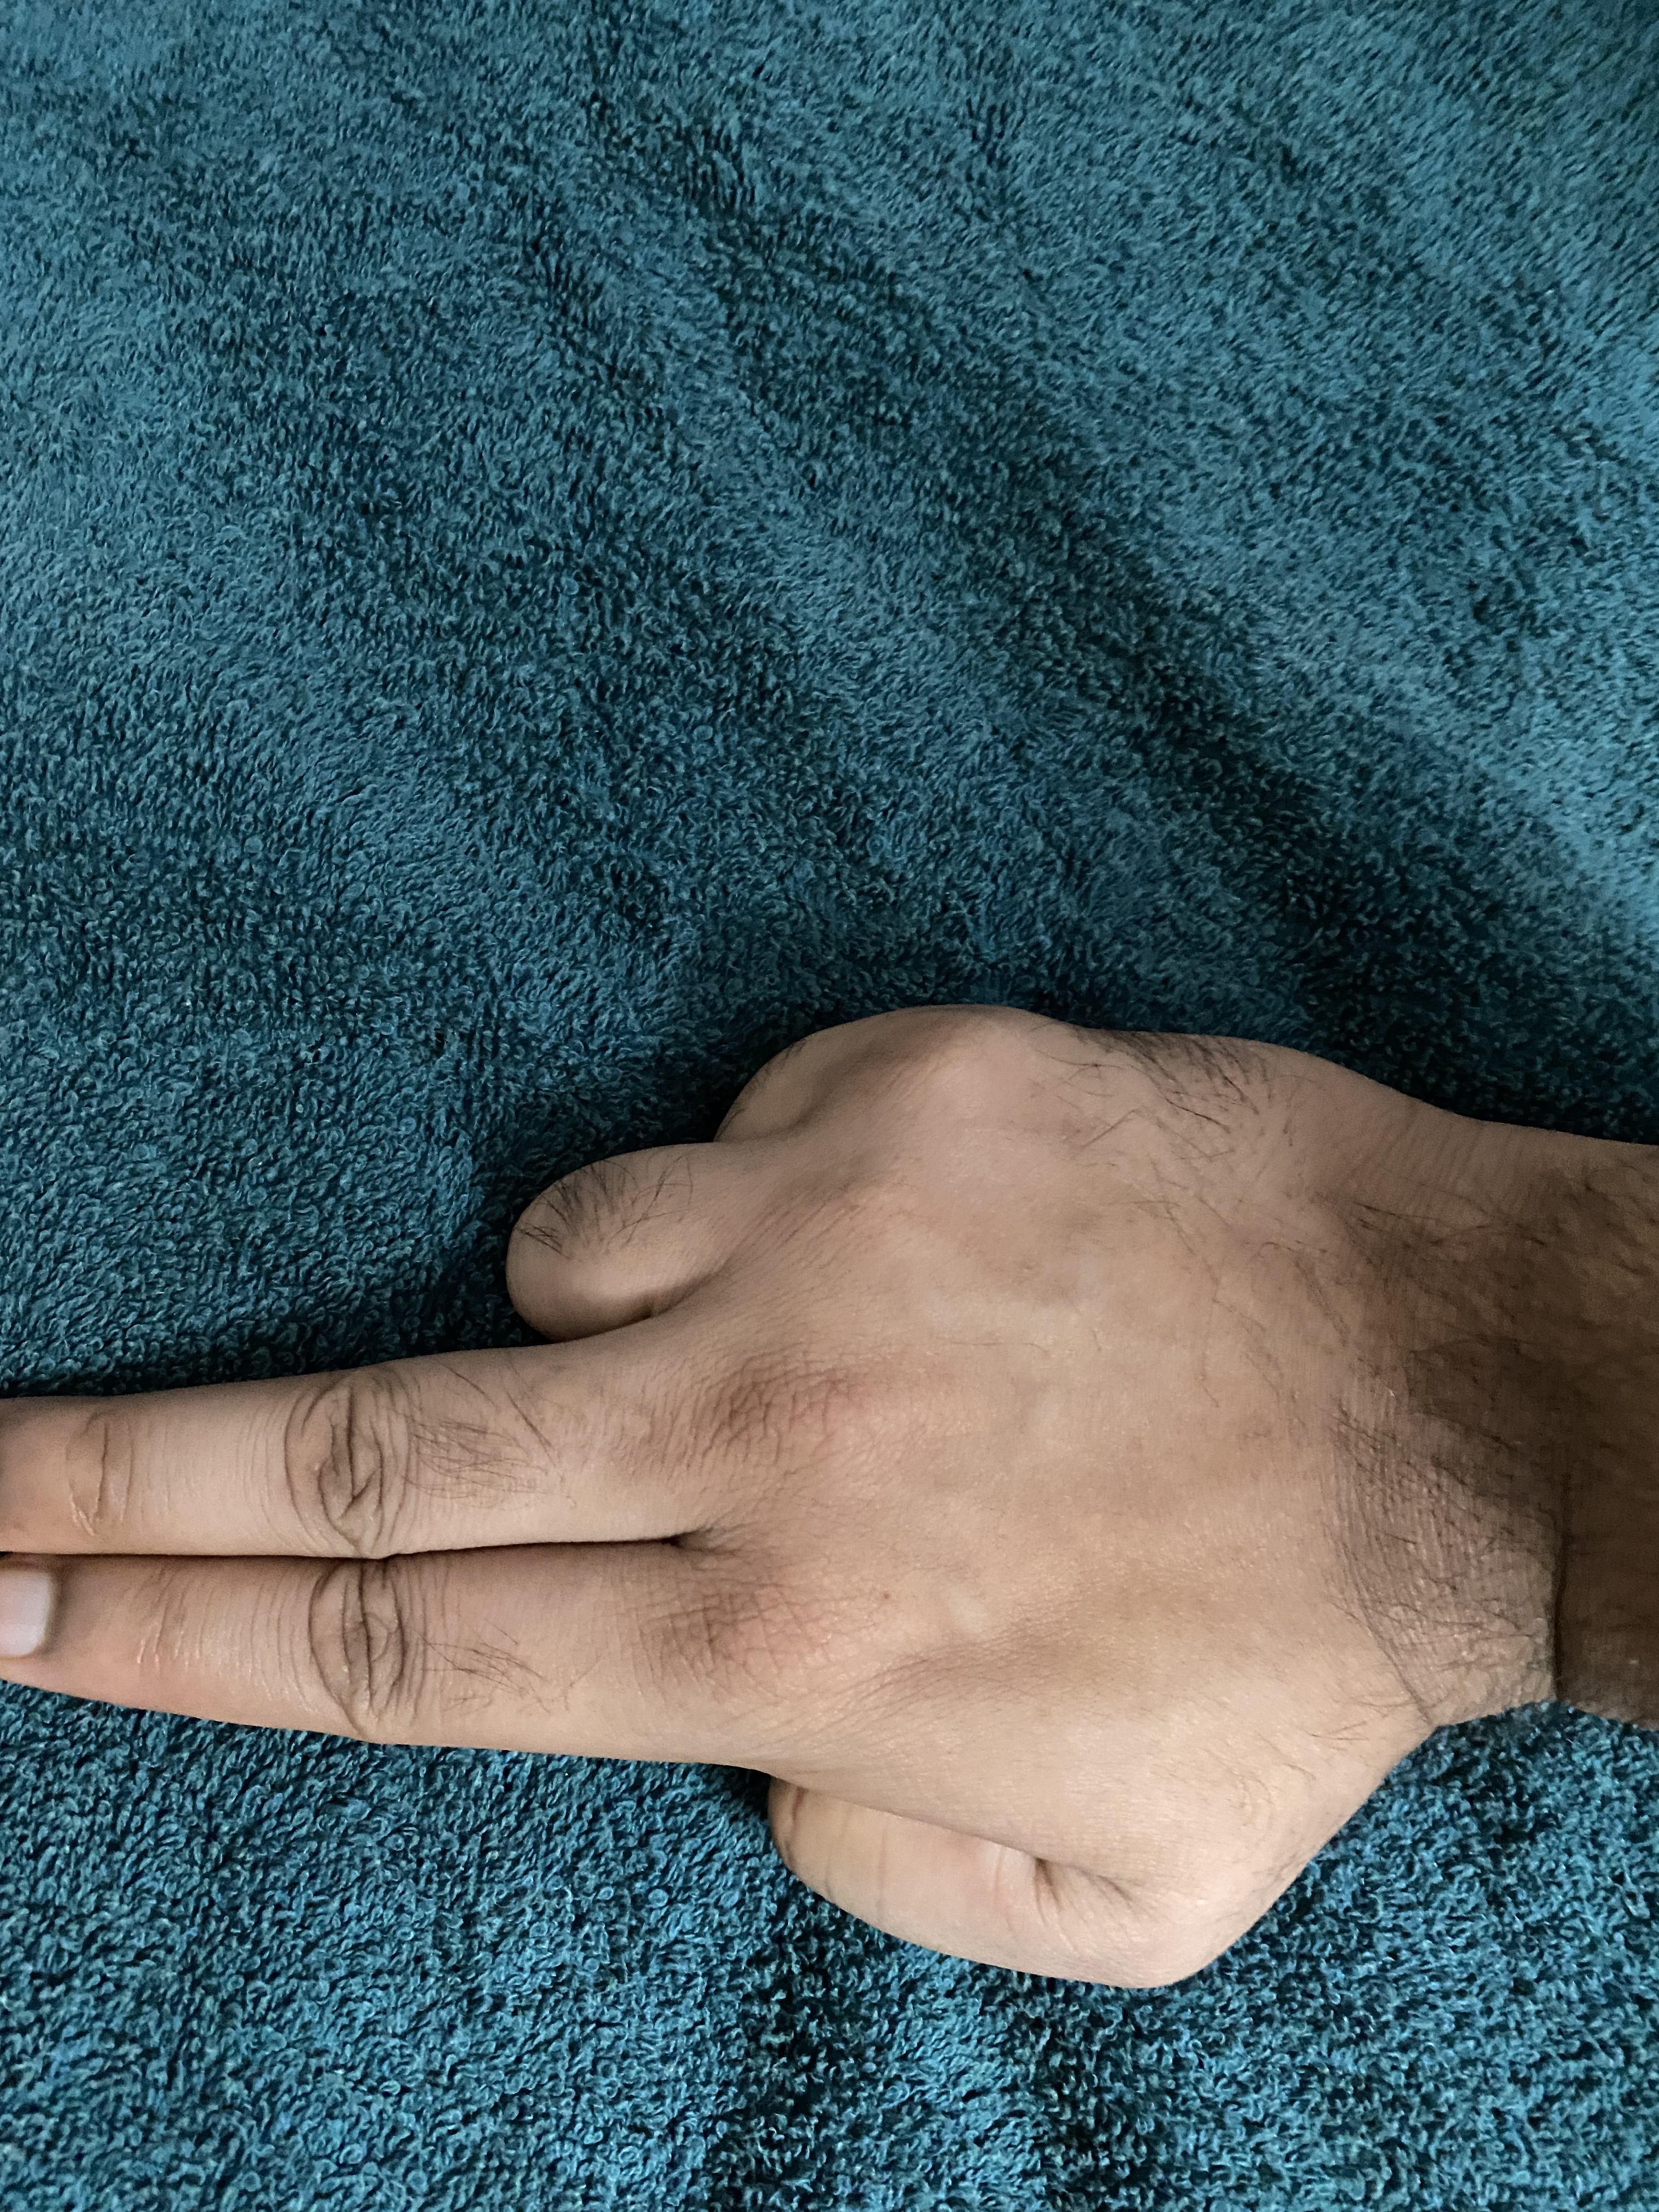right: (5, 846, 1659, 1996)
